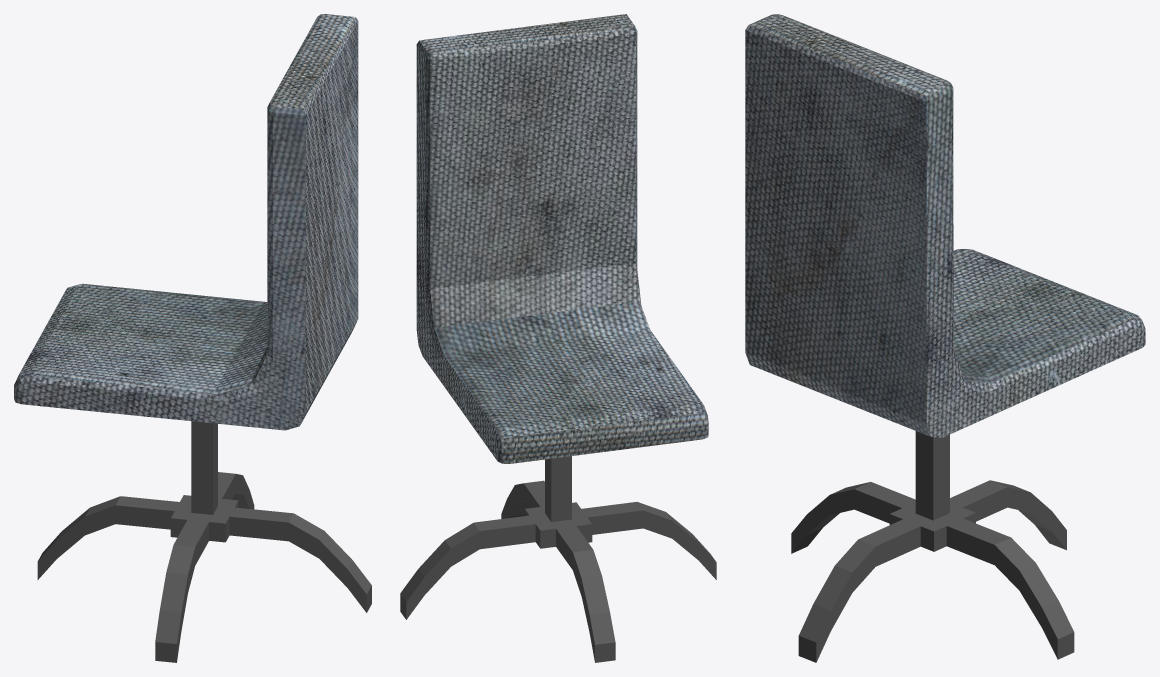
File: chair.glb
The picture shows the model from 3 angles, left to right: view 1: azimuth 30°, elevation 25°; view 2: azimuth 150°, elevation 25°; view 3: azimuth 270°, elevation 25°; orthographic projection. The views are drawn at different scales.
Parts seen in each view (by area): view 1: chair-col; view 2: chair-col; view 3: chair-col.
Boxes of the visible parts, bbox=[...] form: chair-col: bbox=[14, 14, 371, 662]; chair-col: bbox=[400, 14, 716, 662]; chair-col: bbox=[745, 14, 1145, 662].
Bounding box in the file's own units: 0.802 × 1.29 × 0.7952.
2 materials, 1 textured.
